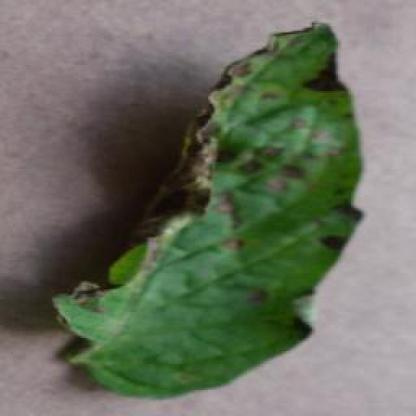Tomato_Blight: (55, 23, 362, 390)
